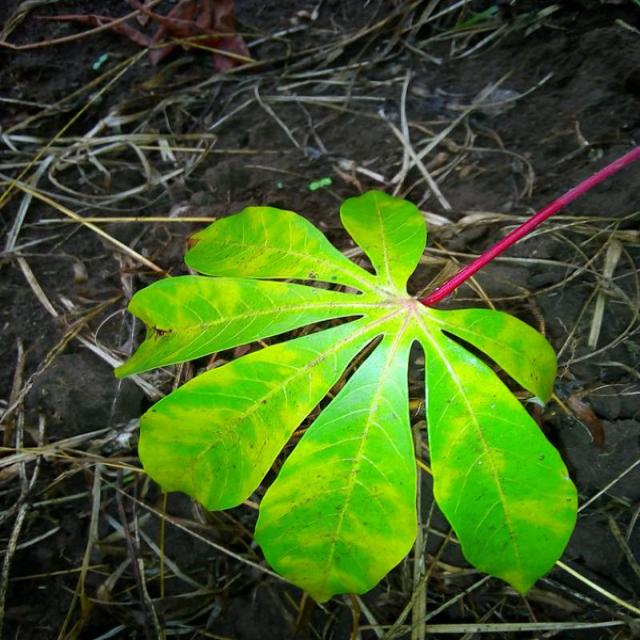cassava leaf: (116, 187, 580, 604), (254, 320, 420, 604), (422, 317, 580, 596)
